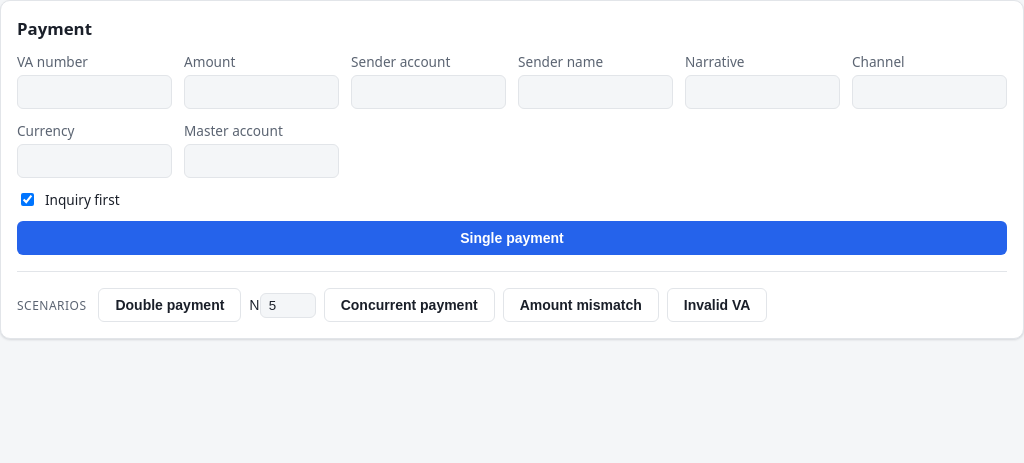
Test: PaymentPanel › runs two sequential payments for the double-payment preset
Type "VA123" into the field labelled "VA number" at [94, 92], box [17,75,172,109]
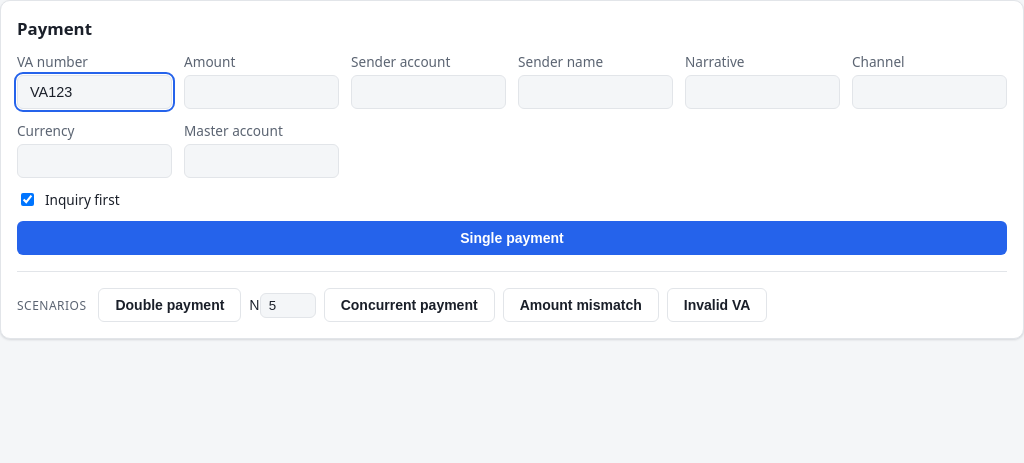
Type "1000" into the field labelled "Amount" at [262, 92], box [184,75,339,109]
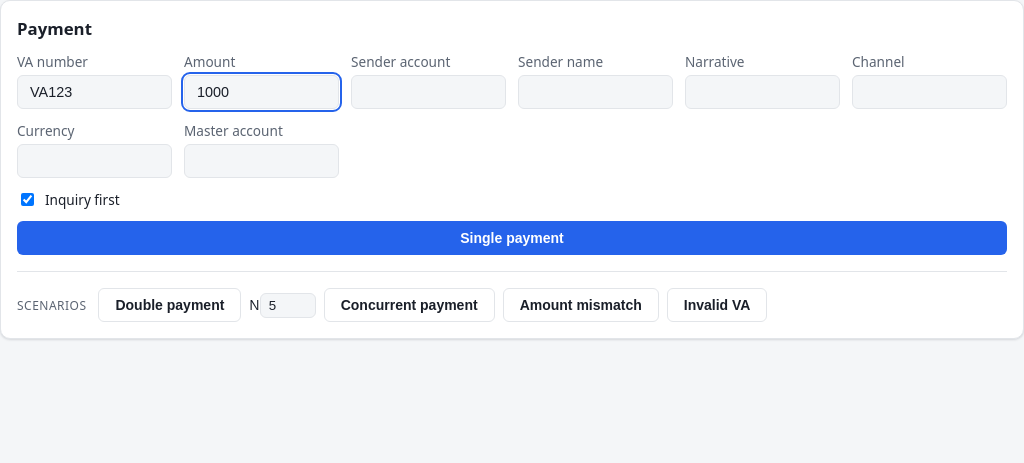
Click the button "Double payment" at [170, 305], box [98,288,241,322]
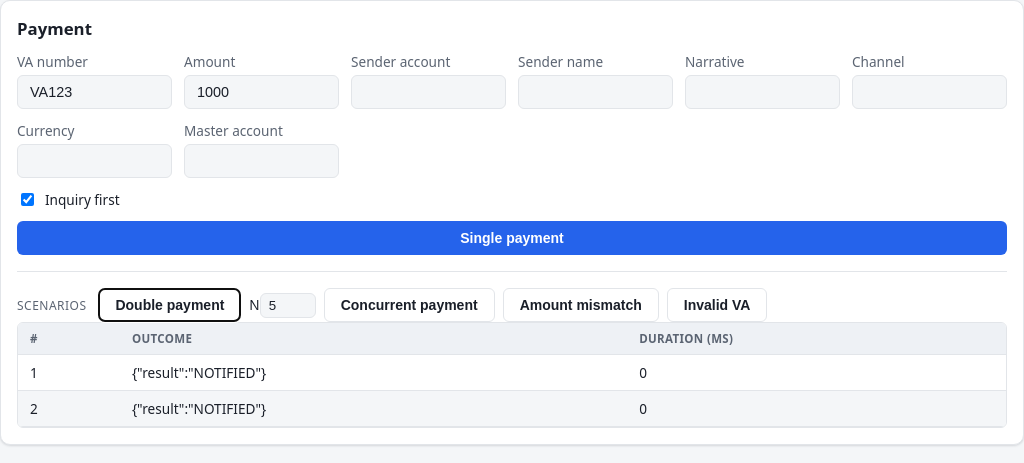
Now the number of rows is 3, box [18,323,1006,354]; [18,354,1006,390]; [18,390,1006,426]
